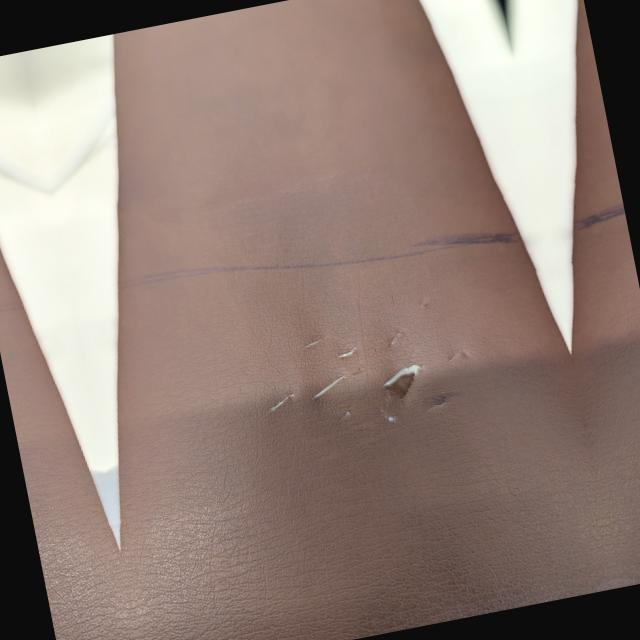belt_crack: (260, 262, 523, 455), (607, 235, 640, 387)
